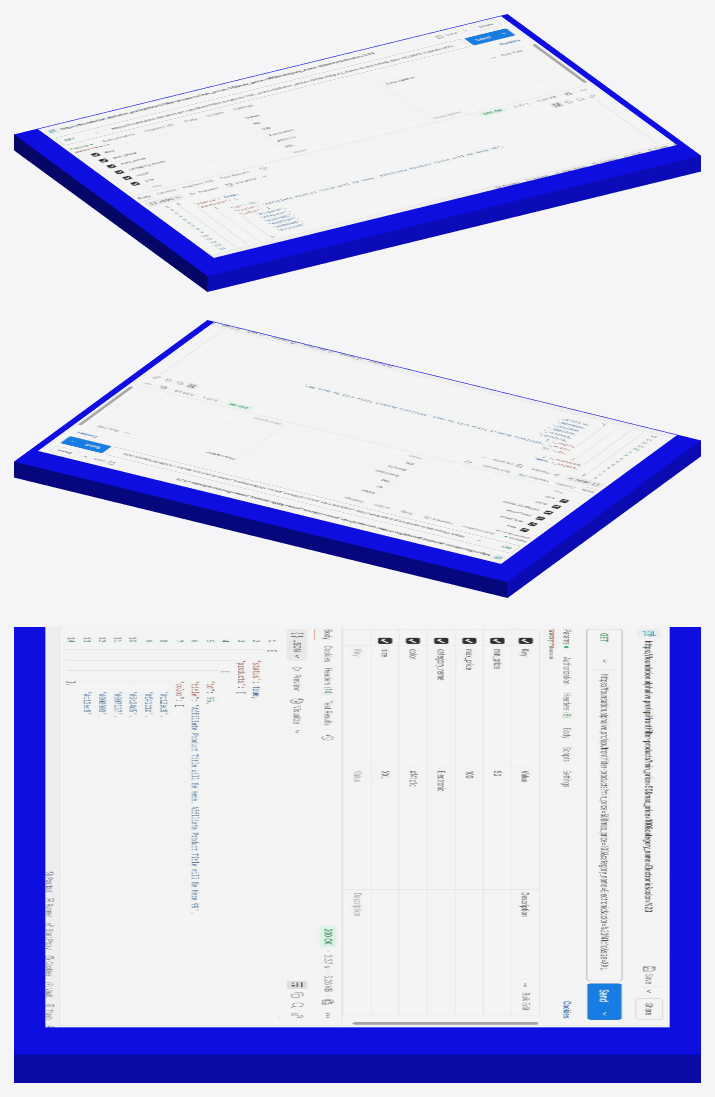
3 renders of one model, top to bottom at view 1: azimuth 30°, elevation 25°; view 2: azimuth 150°, elevation 25°; view 3: azimuth 270°, elevation 25°, orthographic. The views are drawn at different scales.
Visible parts, largest first — view 1: PhotoPlane, PhotoBorder; view 2: PhotoPlane, PhotoBorder; view 3: PhotoPlane, PhotoBorder.
Boxes of the visible parts, <box> form: PhotoPlane: <box>38,16,676,257</box>; PhotoBorder: <box>14,14,700,291</box>; PhotoPlane: <box>38,322,676,563</box>; PhotoBorder: <box>14,320,700,597</box>; PhotoPlane: <box>45,626,669,1027</box>; PhotoBorder: <box>14,627,700,1082</box>.
Size of the model in its own units: 16.2 by 0.75 by 11.
2 materials, 1 textured.
